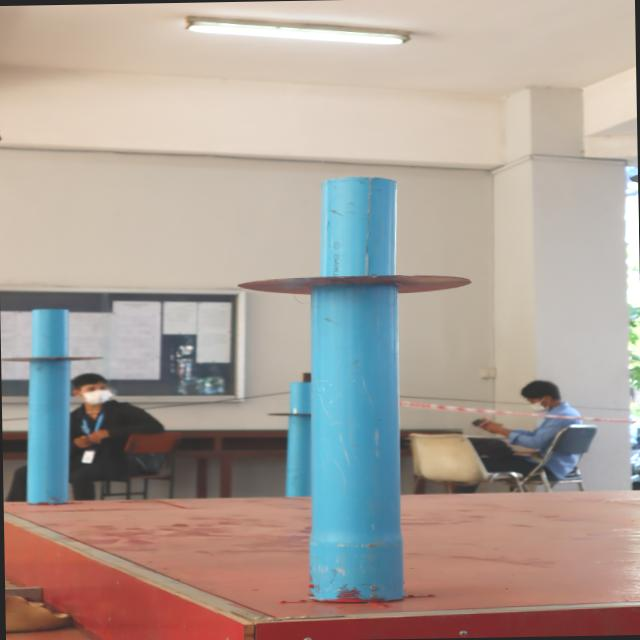pole: (248, 172, 484, 372), (0, 300, 117, 415)
